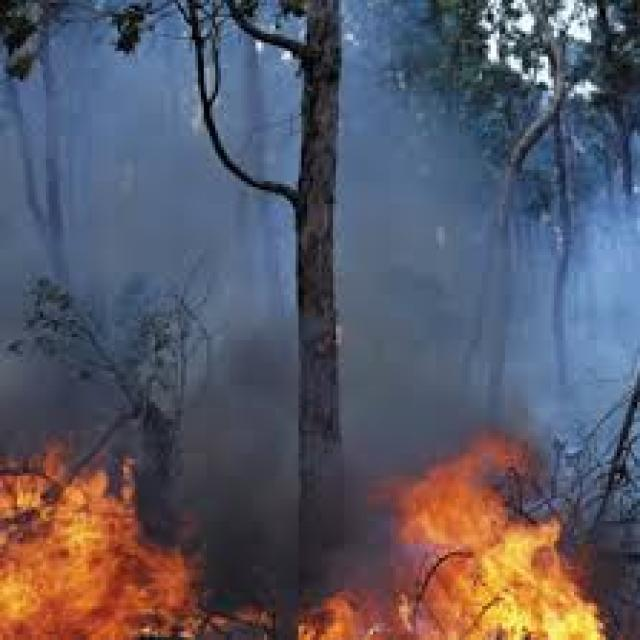Fire: (406, 437, 610, 640), (3, 447, 192, 640), (296, 597, 354, 640)
Smoke: (1, 23, 640, 397), (41, 112, 623, 334)
